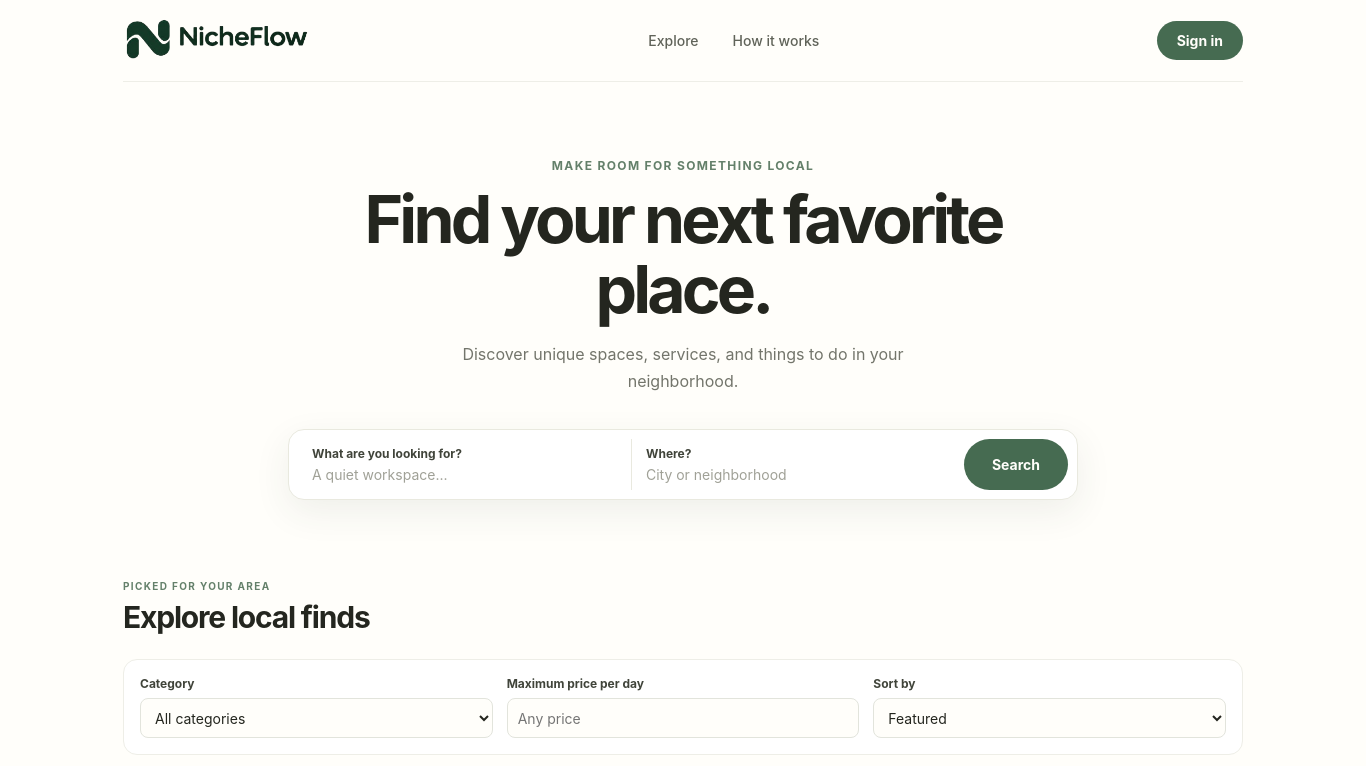
NicheFlow landing page › registers the selected supplier account type
The image size is (1366, 766).
Click the link "Sign in" at (1200, 40), box [1157, 21, 1243, 60]
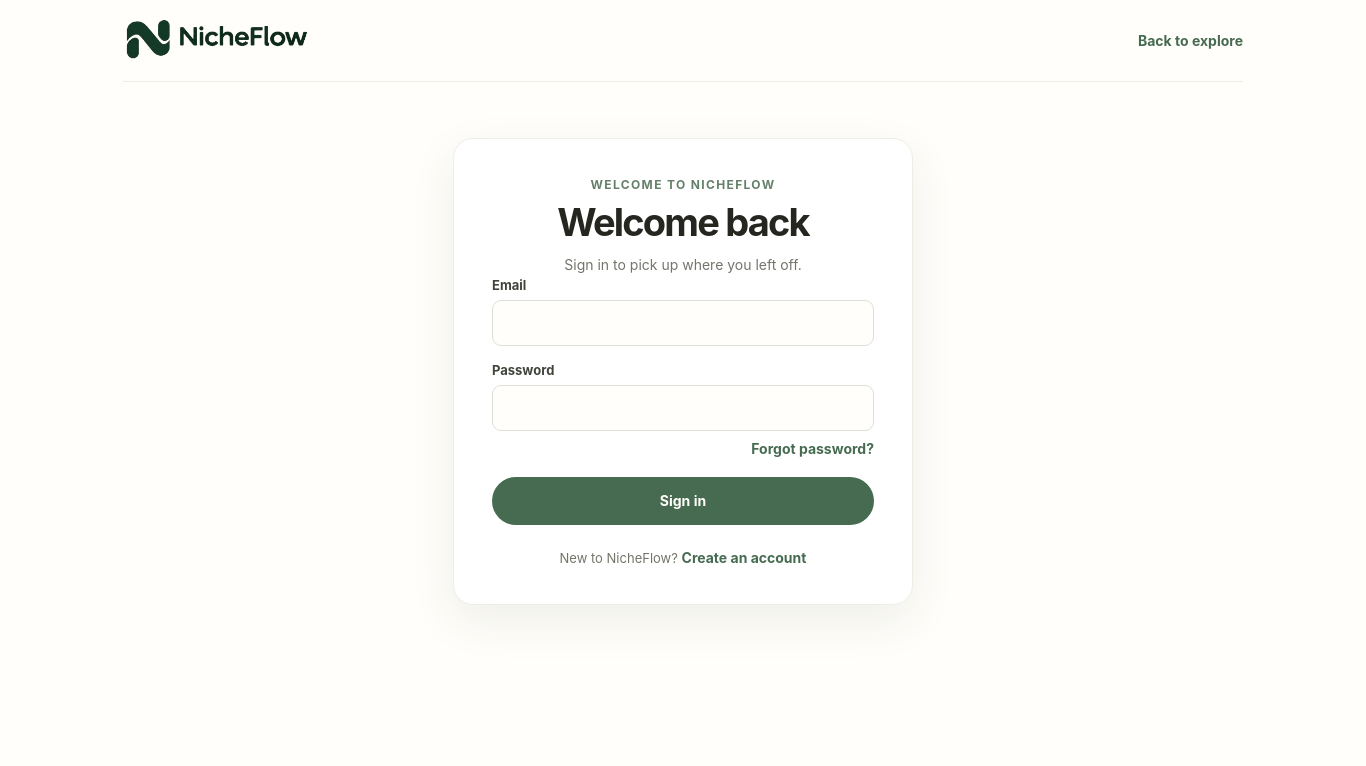
Click the link "Create an account" at (744, 557), box [682, 549, 806, 566]
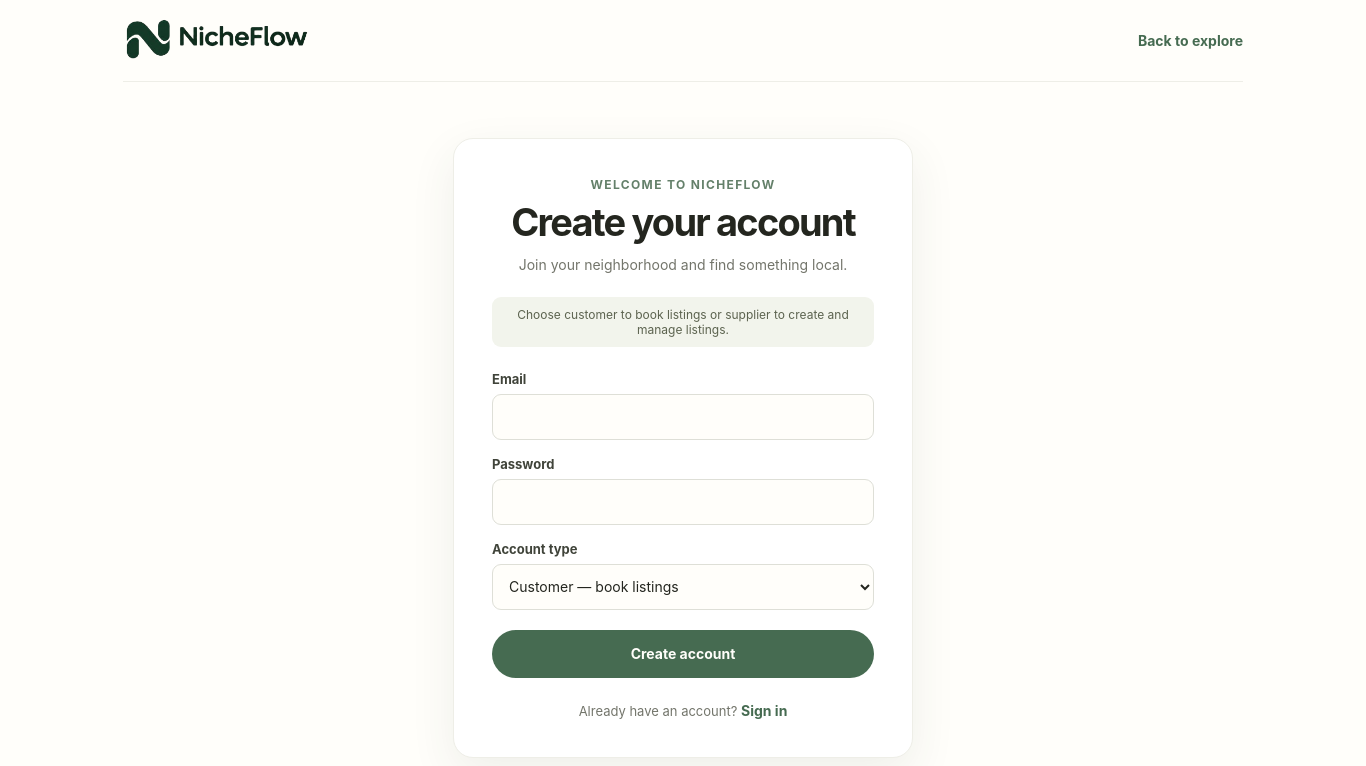
Type "maker@example.com" into the field labelled "Email" at (683, 417), box [492, 394, 874, 440]
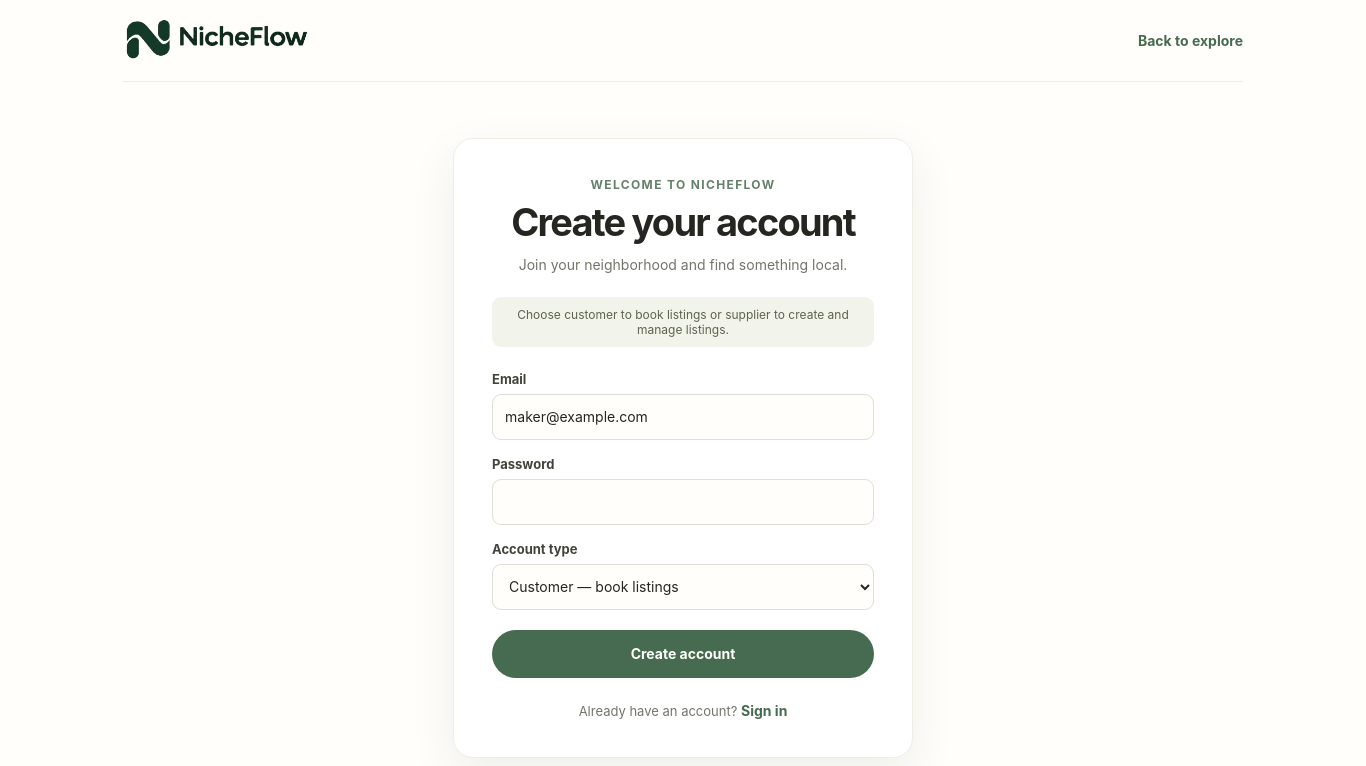
Type "correct-horse" into the password field labelled "Password" at (683, 502), box [492, 479, 874, 525]
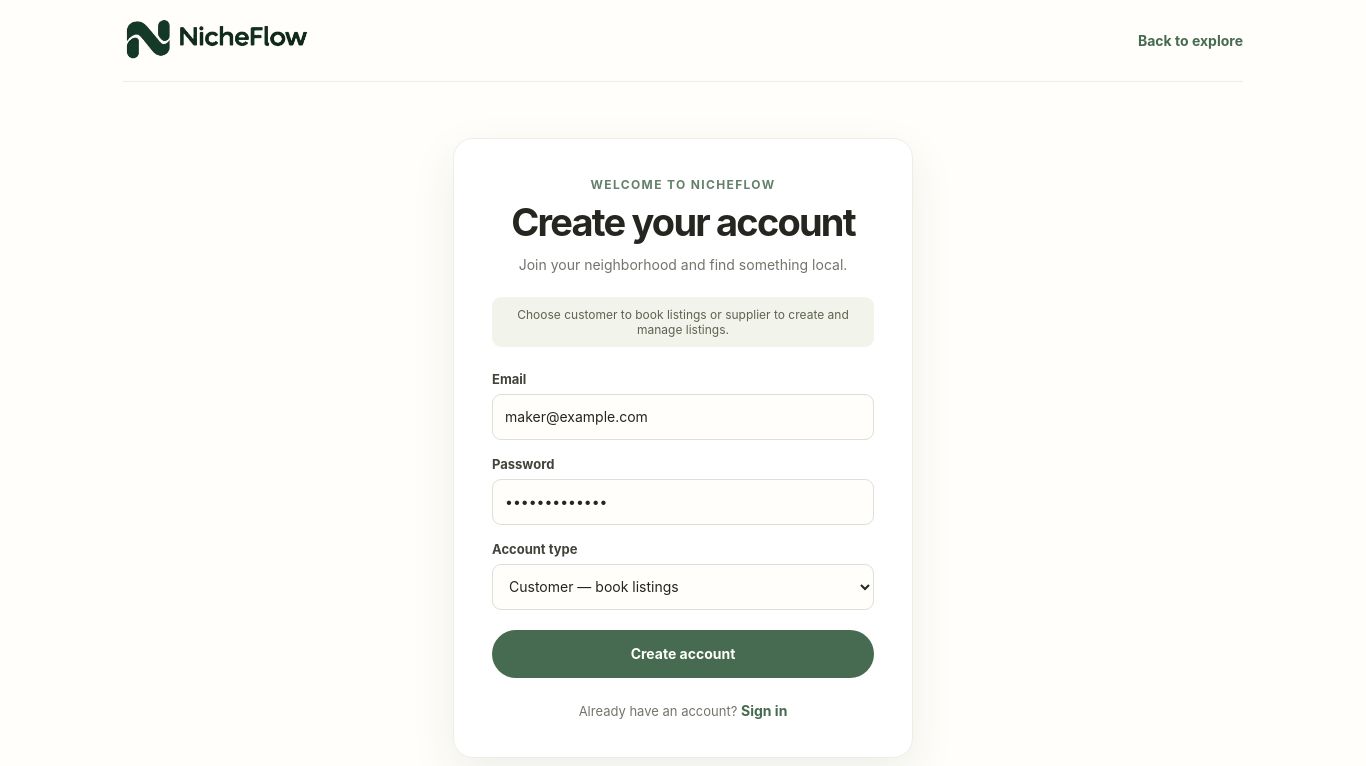
Select "Supplier — create listings" in the dropdown labelled "Account type" at (683, 587), box [492, 564, 874, 610]
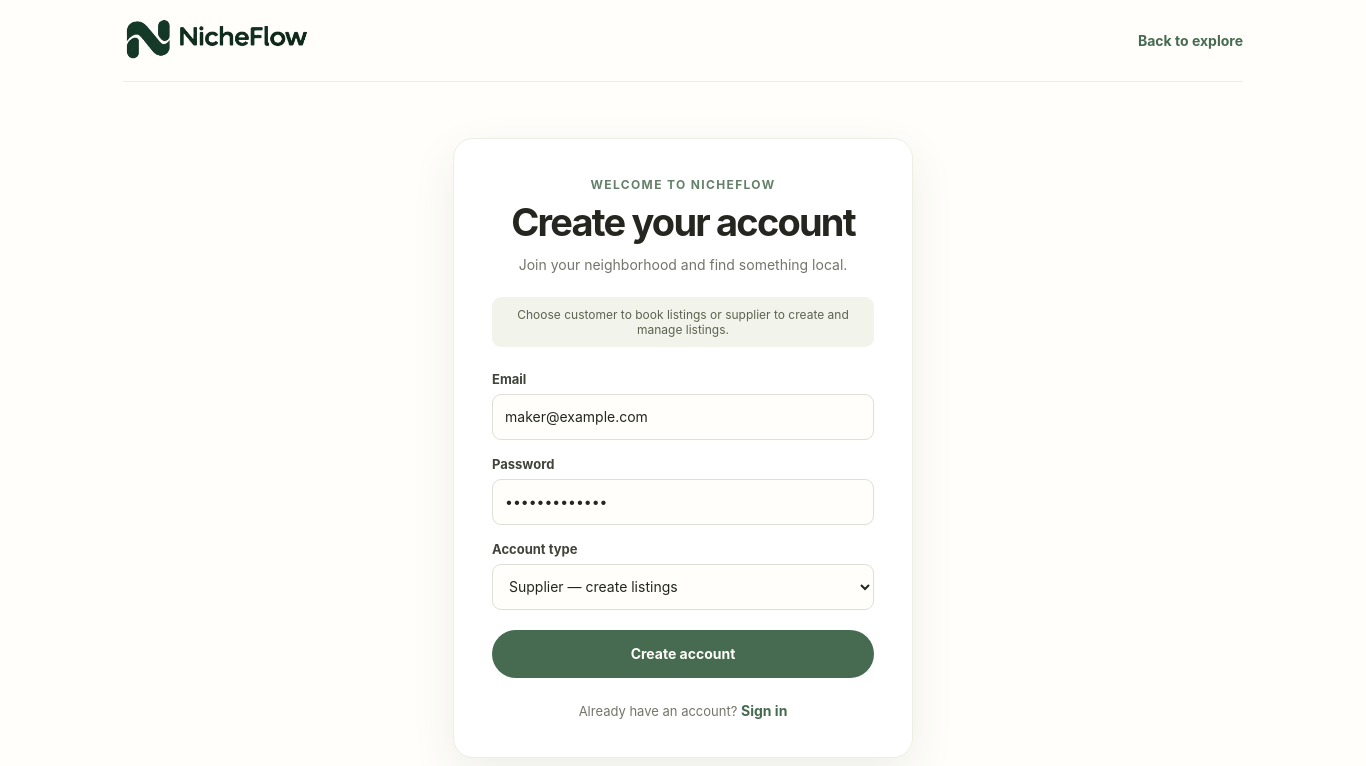
Click the button "Create account" at (683, 654), box [492, 630, 874, 678]
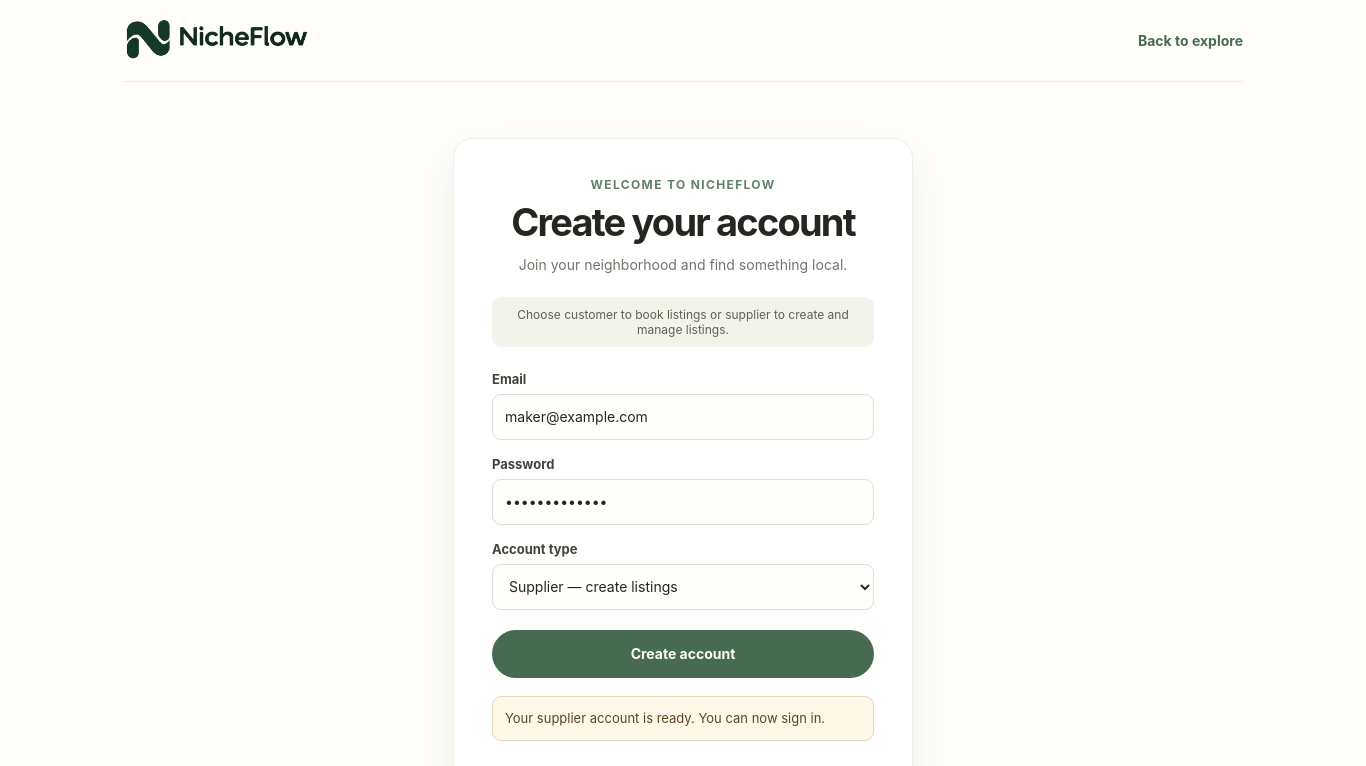
Check: the message reads "Your supplier account is ready. You can now sign in.", box [505, 710, 825, 726]
